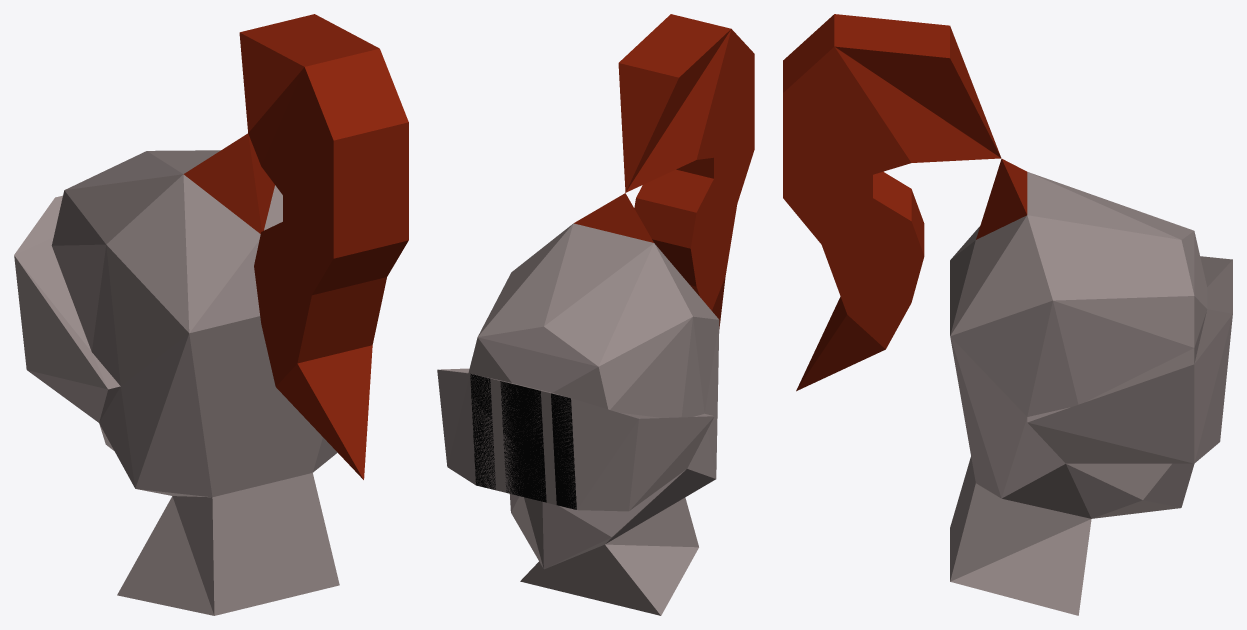
File: itm_model0_zamorak_full_helm.obj
3 views of the same model, side by side, from view 1: azimuth 30°, elevation 25°; view 2: azimuth 150°, elevation 25°; view 3: azimuth 270°, elevation 25° (orthographic). The views are drawn at different scales.
Size of the model in its own units: 0.1562 by 0.3672 by 0.2734.
